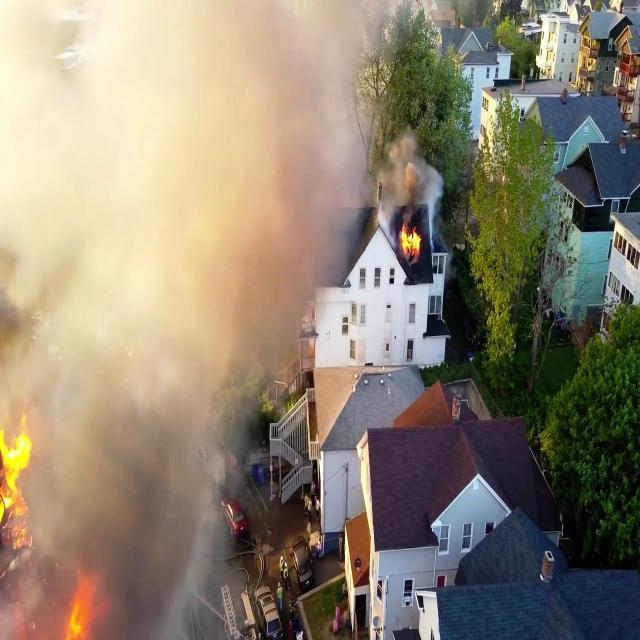Fire: (0, 410, 39, 534), (0, 412, 36, 527), (64, 562, 100, 640), (402, 218, 424, 264)
Smoke: (47, 0, 371, 537), (0, 0, 49, 418)
